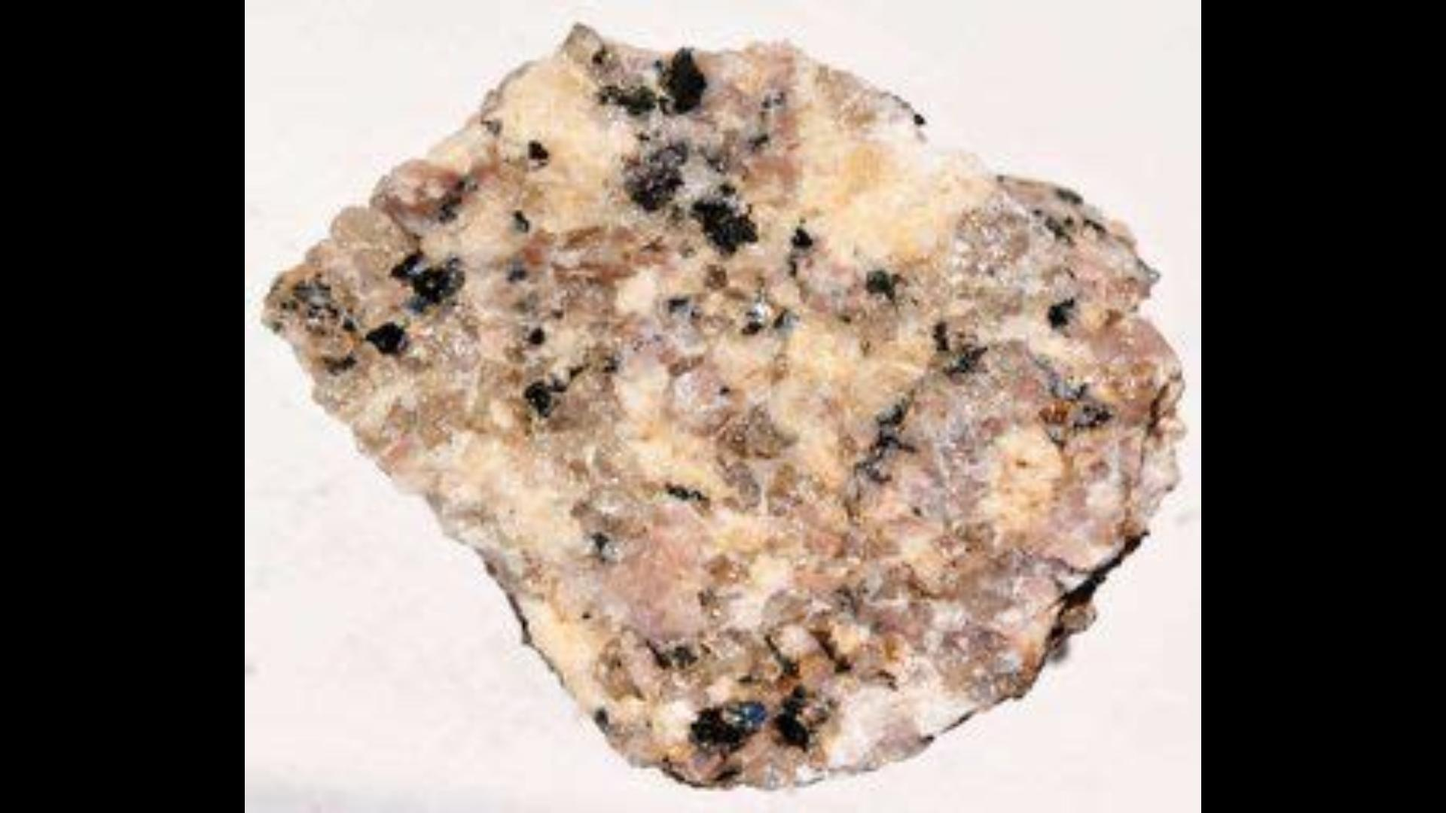rock: (264, 29, 1179, 781)
